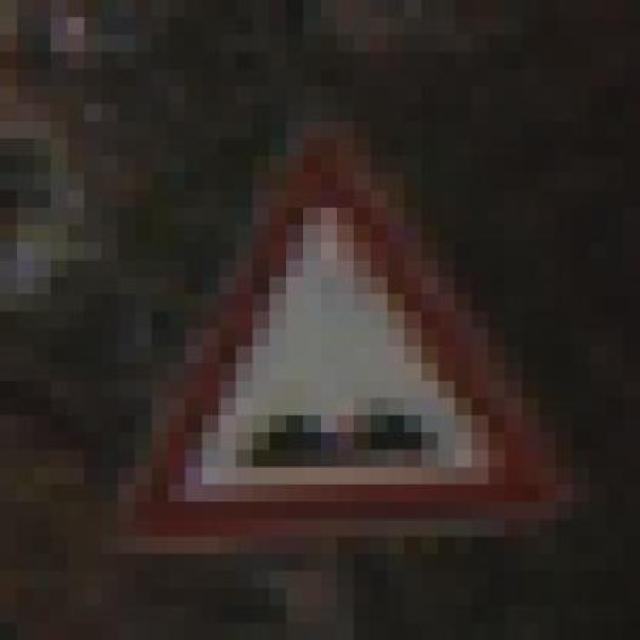Uneven Road: (101, 103, 573, 554)
